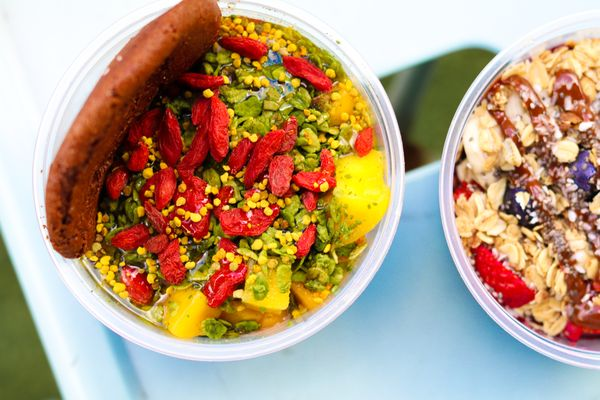sushi: (43, 3, 407, 364), (437, 15, 600, 372)
